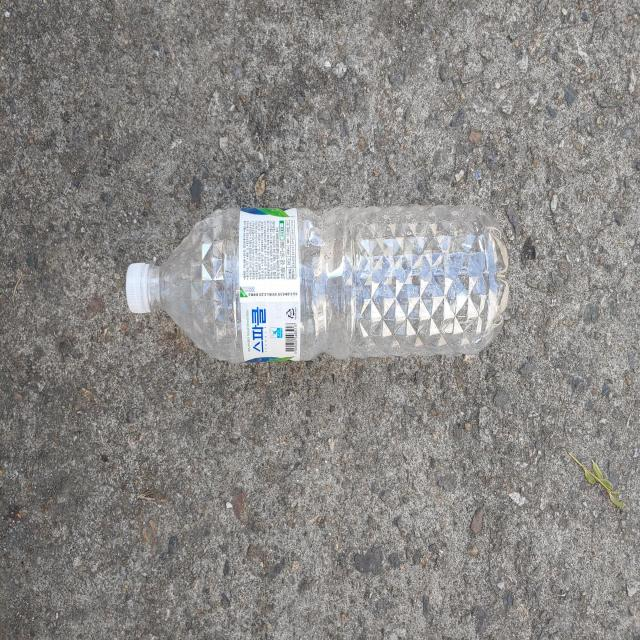plastic: (125, 205, 510, 362)
